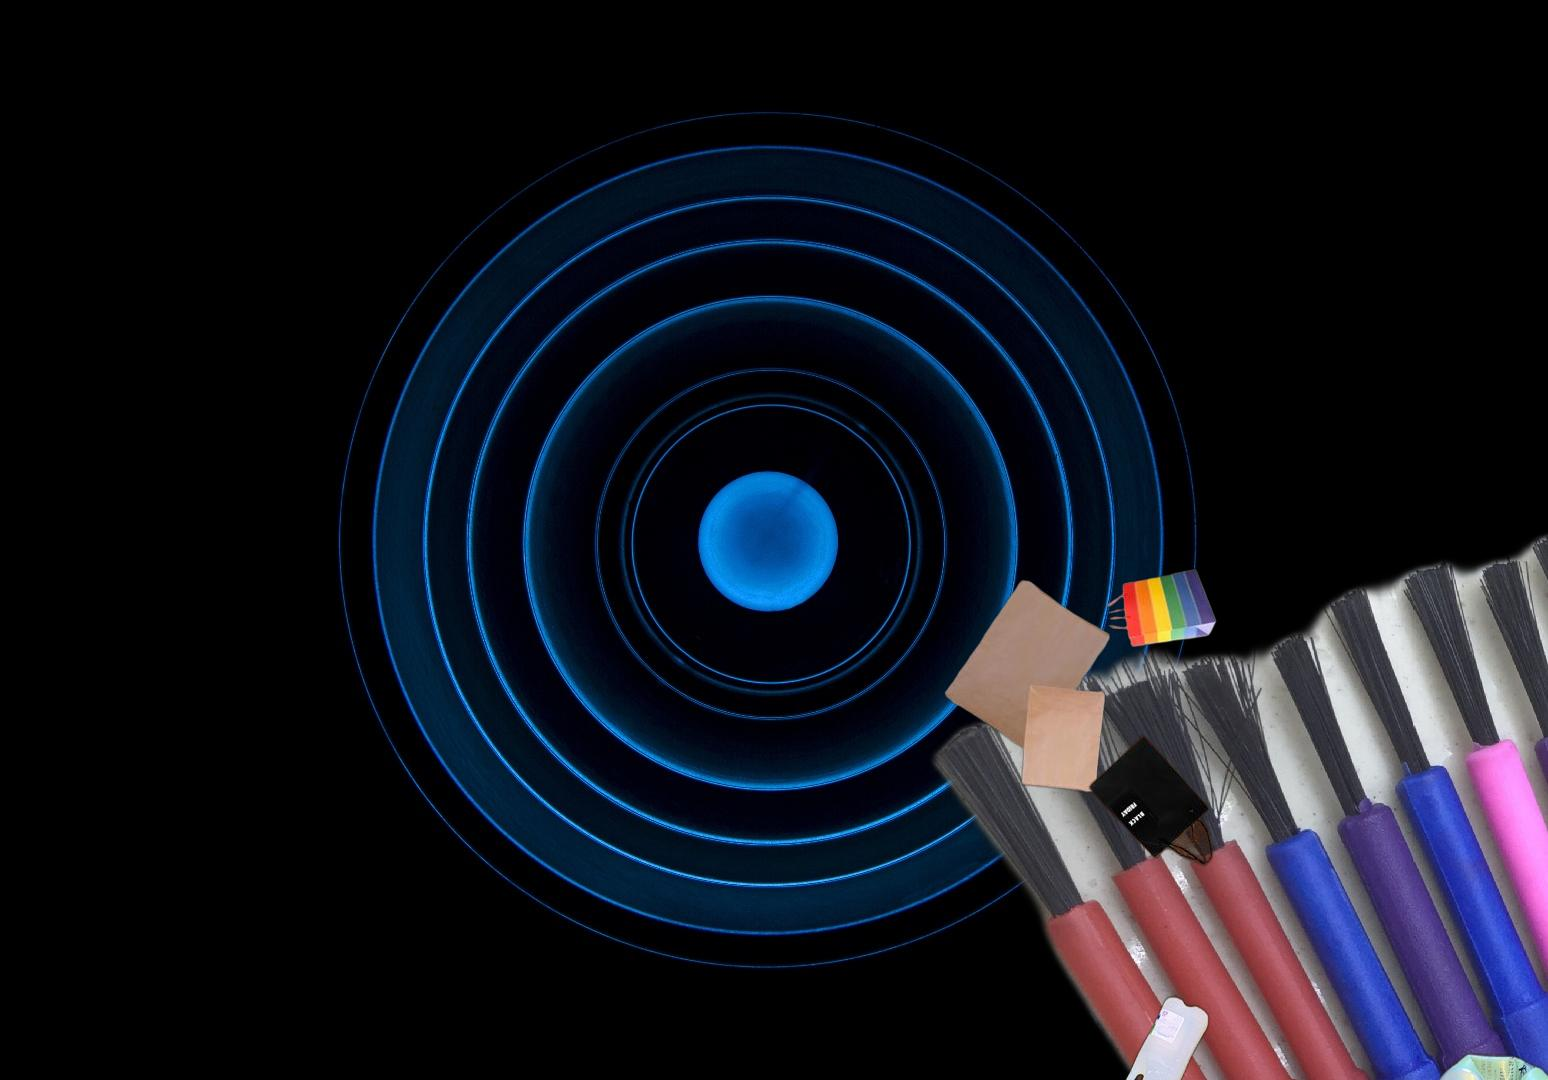metal-cans: (1420, 1047, 1548, 1080)
paper-bag: (941, 566, 1219, 795), (1086, 733, 1214, 868)
penholder: (918, 380, 1548, 1080)
plastic-bottles: (1112, 737, 1488, 1080)
